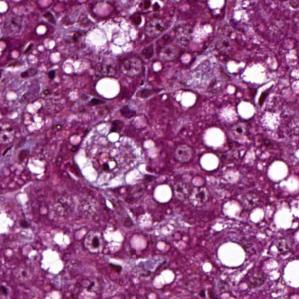ballooning: (74, 122, 151, 193), (82, 13, 140, 57)
